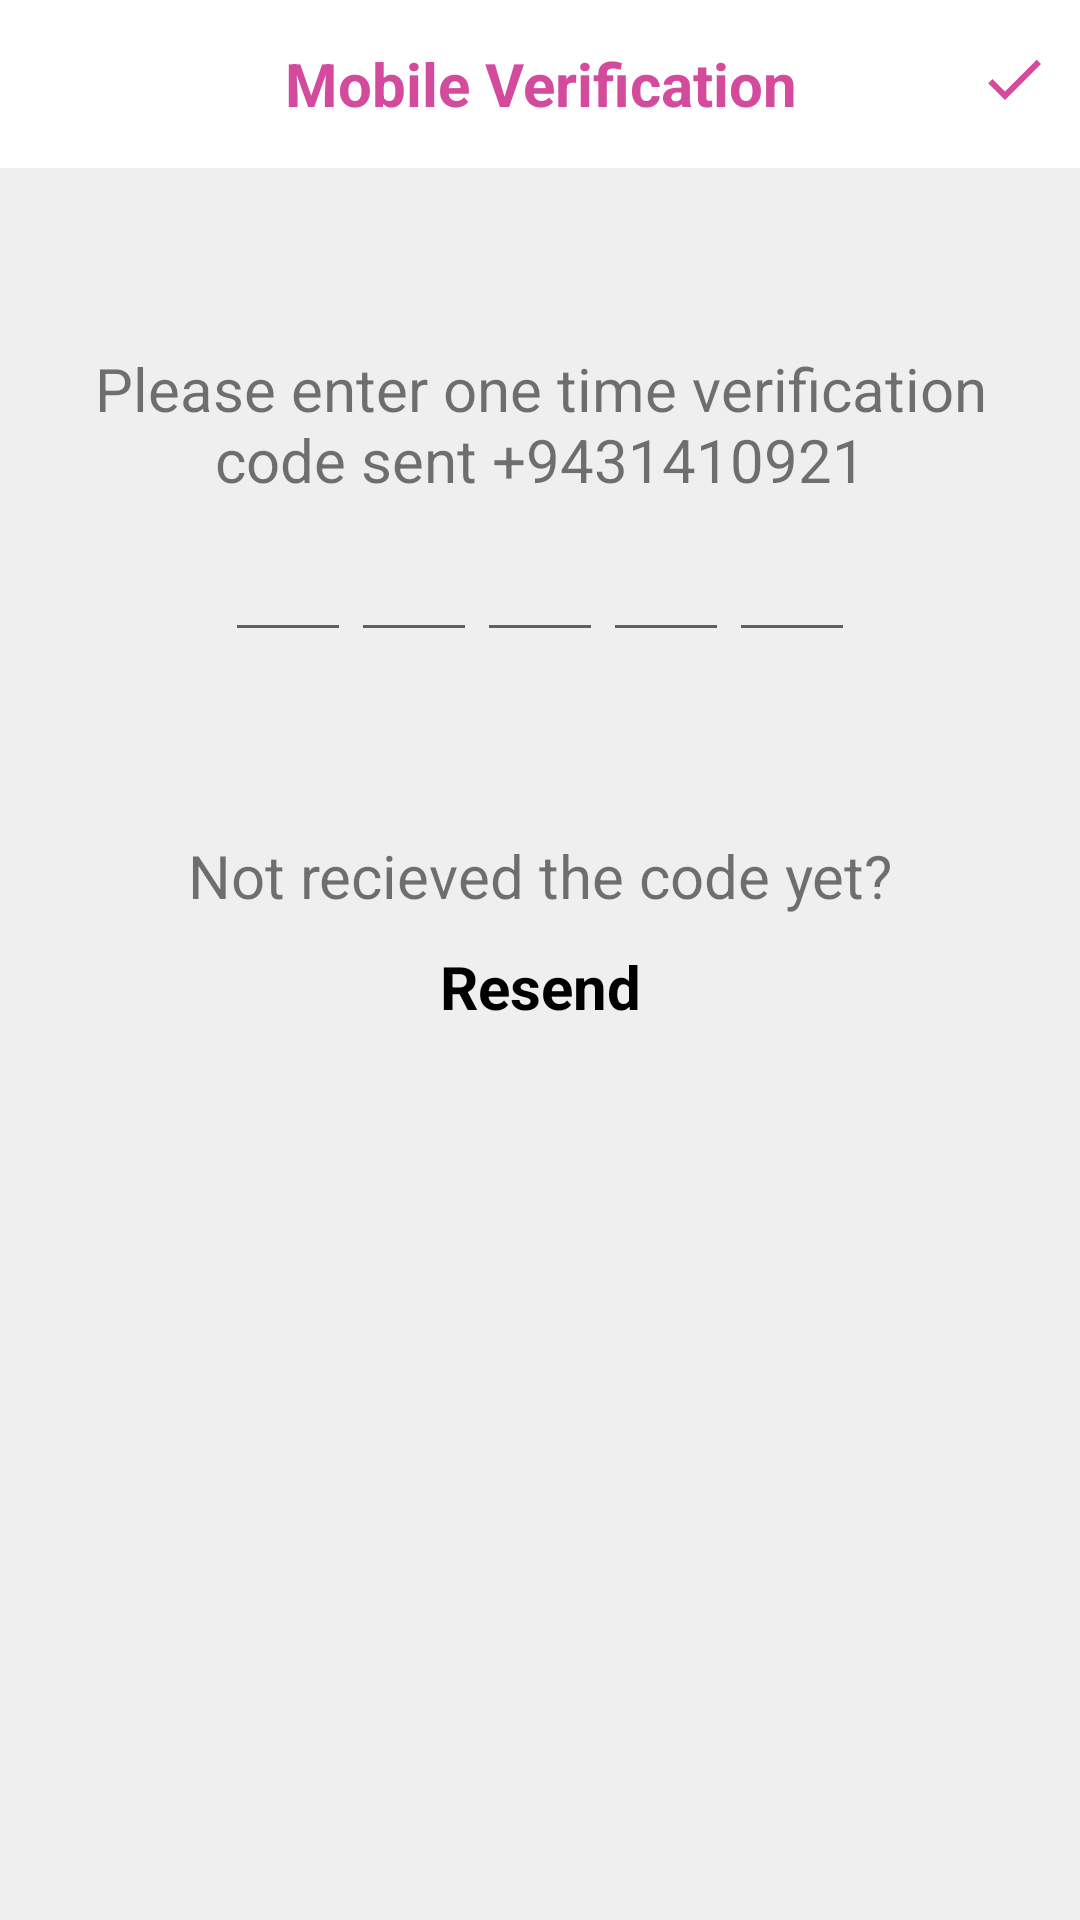

Where icons sit on this 1080×1920 app screen, as [x1, y1, x2, y2]:
check: [988, 60, 1041, 100]
